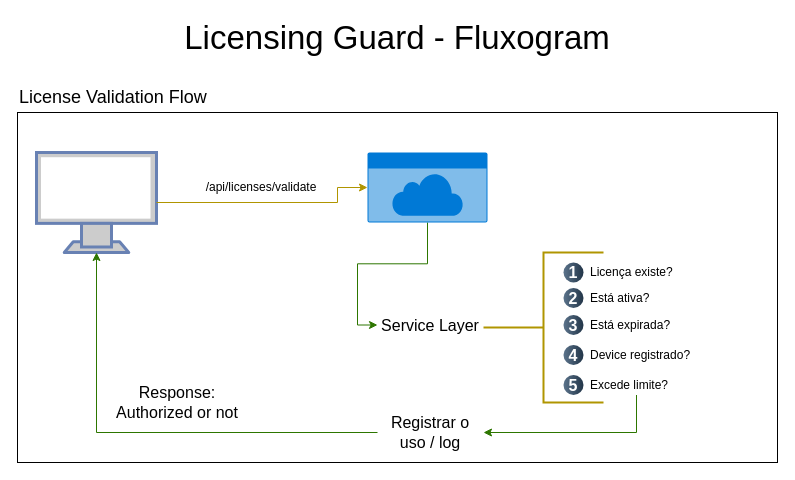
Image size: 795x480. Some labels were removed from this diagram. Each missing label, with the centre of its shape:
"Client Software" goes at (x=96, y=202).
"Licensing Guard API" goes at (x=427, y=187).
